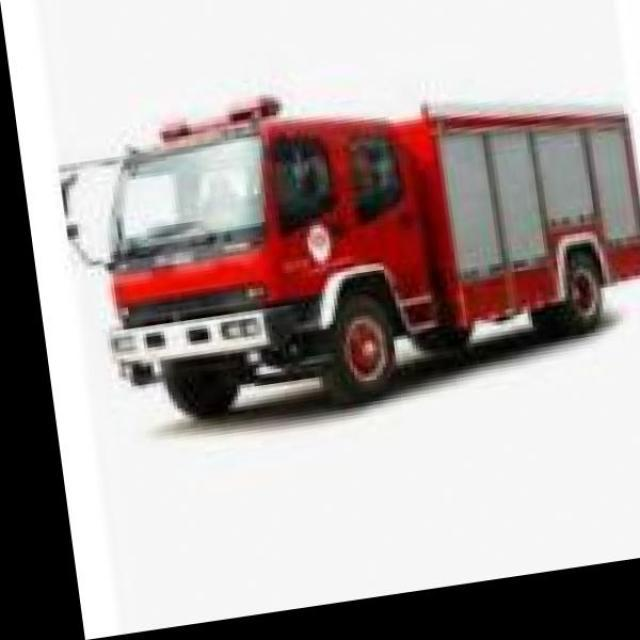emergency: (56, 92, 638, 420)
